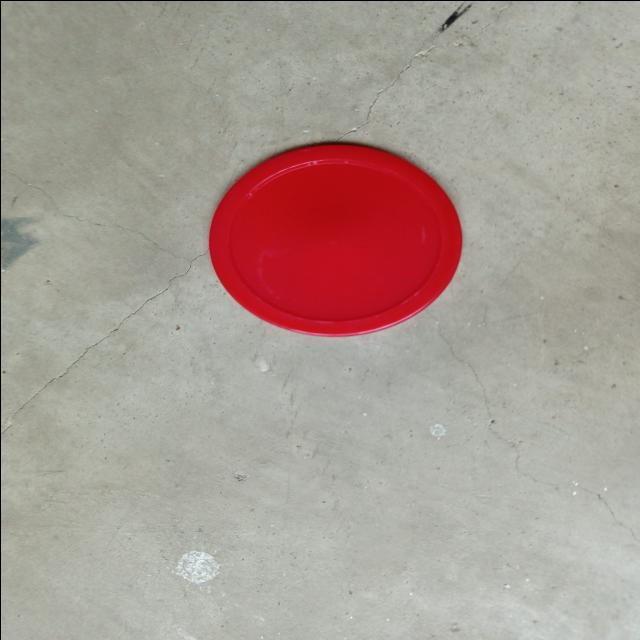chip: (203, 142, 463, 336)
